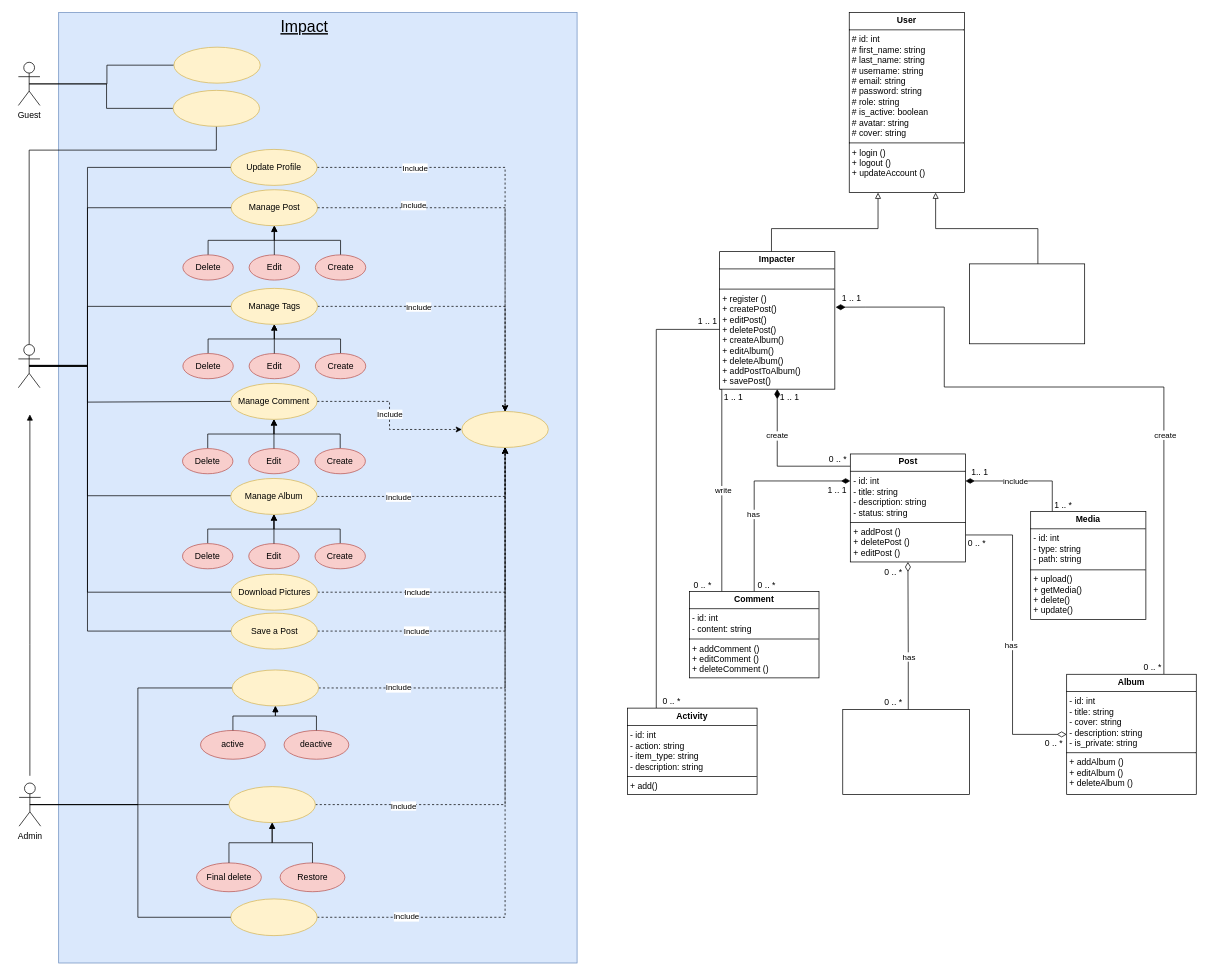
The diagram is 1209 pixels wide and 976 high, and some of its shapes have lost their labels. The shapes that lost their labels are listed below. From the top down, each one's centre as x and y in pixels, then its label:
the point at 216,64: Create Account
the point at 216,108: See Pictures/Videos
the point at 1027,303: Admin + manageUser () + managePost () + trackActivity()
the point at 29,366: Impacter
the point at 504,429: Login
the point at 275,687: Manage Users
the point at 905,752: Tags - id: int - name: string + addTags () + deleteTags () + editTags()
the point at 271,804: Send posts to Archive
the point at 273,917: Delete Comments
